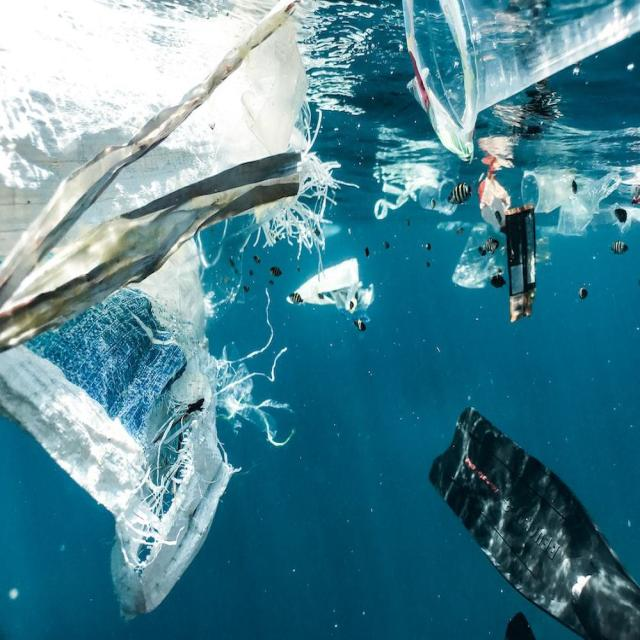metal: (432, 386, 639, 635)
plastic: (389, 2, 640, 168), (523, 168, 632, 242)
trash: (0, 62, 302, 573)
